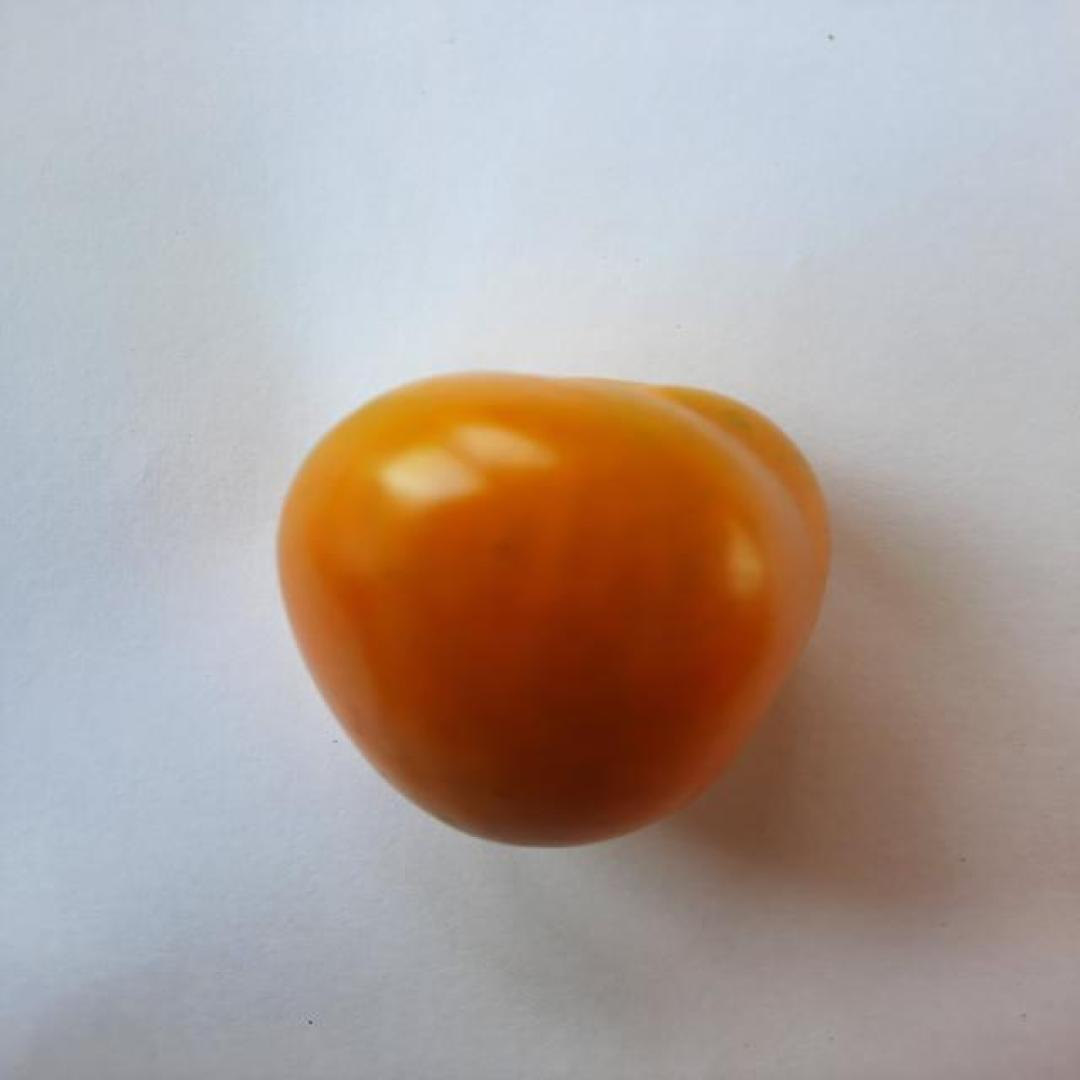setengah_matang: (270, 368, 835, 850)
